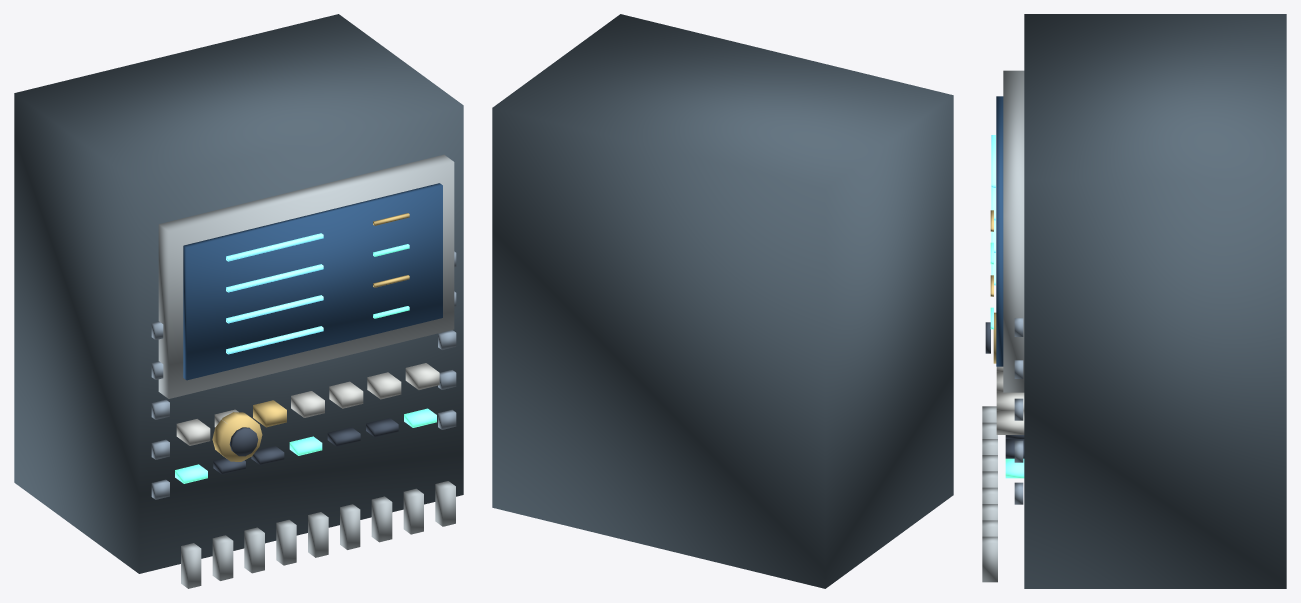
The model's file is 56_L84_SolarWingFlexibleModeEmulator.glb.
3 renders of one model, left to right at view 1: azimuth 30°, elevation 25°; view 2: azimuth 150°, elevation 25°; view 3: azimuth 270°, elevation 25°, orthographic. The views are drawn at different scales.
Parts seen in each view (by area): view 1: L84_SolarWingFlexibleModeEmul_Part_0000, L84_SolarWingFlexibleModeEmul_Part_0002, L84_SolarWingFlexibleModeEmul_Part_0001, L84_SolarWingFlexibleModeEmul_Part_0006, L84_SolarWingFlexibleModeEmul_Part_0003, L84_SolarWingFlexibleModeEmul_Part_0008, L84_SolarWingFlexibleModeEmul_Part_0005, L84_SolarWingFlexibleModeEmul_Part_0007, L84_SolarWingFlexibleModeEmul_Part_0011, L84_SolarWingFlexibleModeEmul_Part_0004, L84_SolarWingFlexibleModeEmul_Part_0012; view 2: L84_SolarWingFlexibleModeEmul_Part_0000; view 3: L84_SolarWingFlexibleModeEmul_Part_0000, L84_SolarWingFlexibleModeEmul_Part_0001, L84_SolarWingFlexibleModeEmul_Part_0002, L84_SolarWingFlexibleModeEmul_Part_0006, L84_SolarWingFlexibleModeEmul_Part_0008, L84_SolarWingFlexibleModeEmul_Part_0003, L84_SolarWingFlexibleModeEmul_Part_0005.
Part boxes in pixels (bbox=[...]): L84_SolarWingFlexibleModeEmul_Part_0000: bbox=[14, 14, 463, 573]; L84_SolarWingFlexibleModeEmul_Part_0002: bbox=[183, 183, 442, 380]; L84_SolarWingFlexibleModeEmul_Part_0001: bbox=[158, 154, 455, 588]; L84_SolarWingFlexibleModeEmul_Part_0006: bbox=[176, 363, 439, 445]; L84_SolarWingFlexibleModeEmul_Part_0003: bbox=[226, 233, 323, 354]; L84_SolarWingFlexibleModeEmul_Part_0008: bbox=[151, 251, 456, 499]; L84_SolarWingFlexibleModeEmul_Part_0005: bbox=[175, 244, 436, 483]; L84_SolarWingFlexibleModeEmul_Part_0007: bbox=[213, 418, 398, 474]; L84_SolarWingFlexibleModeEmul_Part_0011: bbox=[212, 412, 262, 461]; L84_SolarWingFlexibleModeEmul_Part_0004: bbox=[253, 213, 409, 427]; L84_SolarWingFlexibleModeEmul_Part_0012: bbox=[229, 427, 258, 456]; L84_SolarWingFlexibleModeEmul_Part_0000: bbox=[492, 14, 953, 588]; L84_SolarWingFlexibleModeEmul_Part_0000: bbox=[1024, 14, 1286, 588]; L84_SolarWingFlexibleModeEmul_Part_0001: bbox=[982, 70, 1024, 582]; L84_SolarWingFlexibleModeEmul_Part_0002: bbox=[996, 96, 1003, 366]; L84_SolarWingFlexibleModeEmul_Part_0006: bbox=[996, 366, 1024, 434]; L84_SolarWingFlexibleModeEmul_Part_0008: bbox=[1014, 318, 1023, 504]; L84_SolarWingFlexibleModeEmul_Part_0003: bbox=[991, 135, 995, 285]; L84_SolarWingFlexibleModeEmul_Part_0005: bbox=[990, 242, 1024, 478].
Bounding box in the file's own units: 0.9996 × 1.17 × 0.7732.
